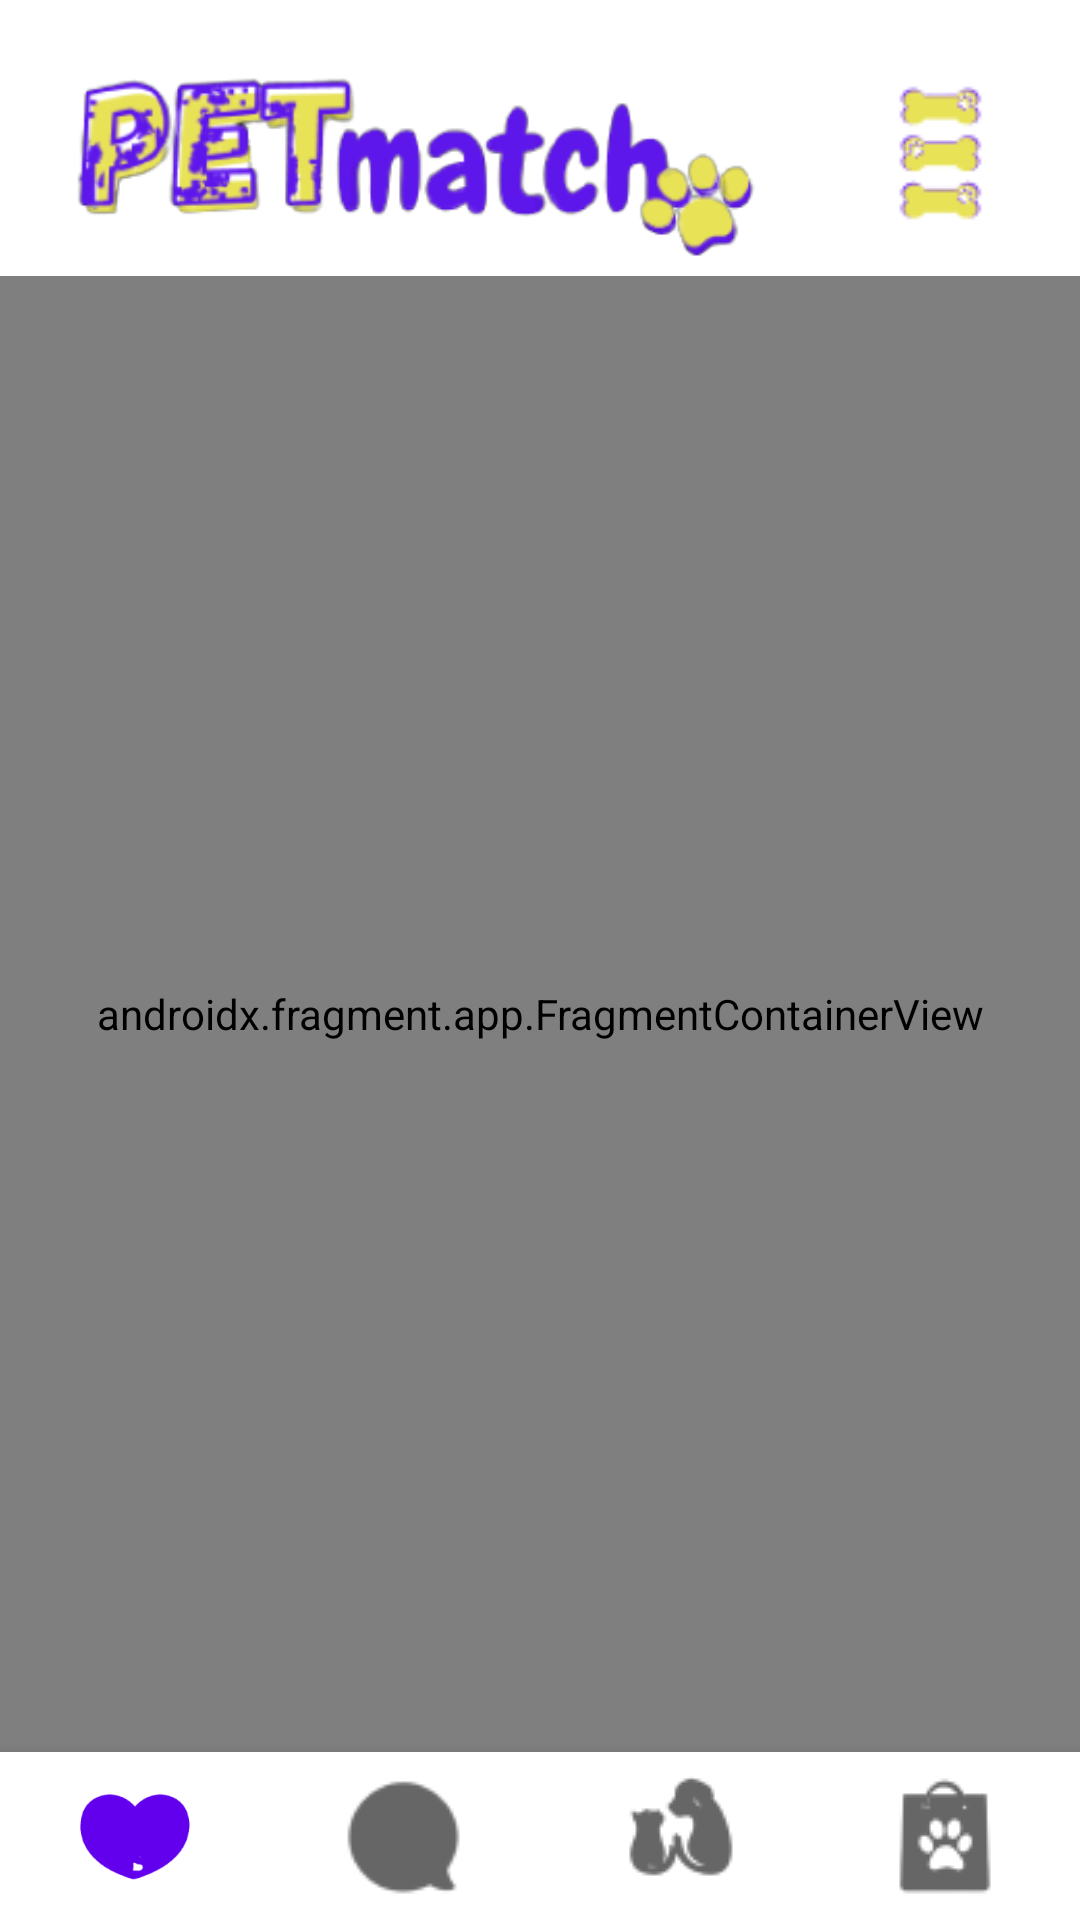

Where icons sit on this 1080 x 1920 app screen, as (x1, y1, x2, y2):
ossos config: (899, 86, 982, 220)
